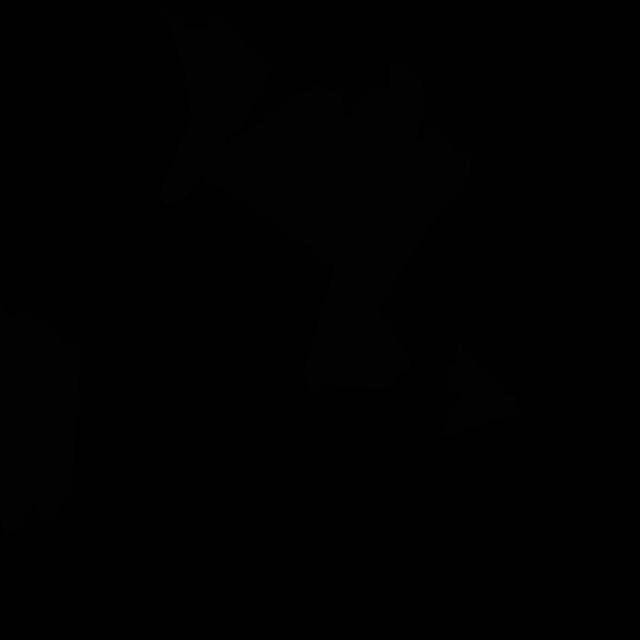cardboard: (286, 130, 471, 399), (202, 63, 426, 231), (161, 9, 270, 204), (0, 300, 81, 536), (438, 339, 517, 439)
